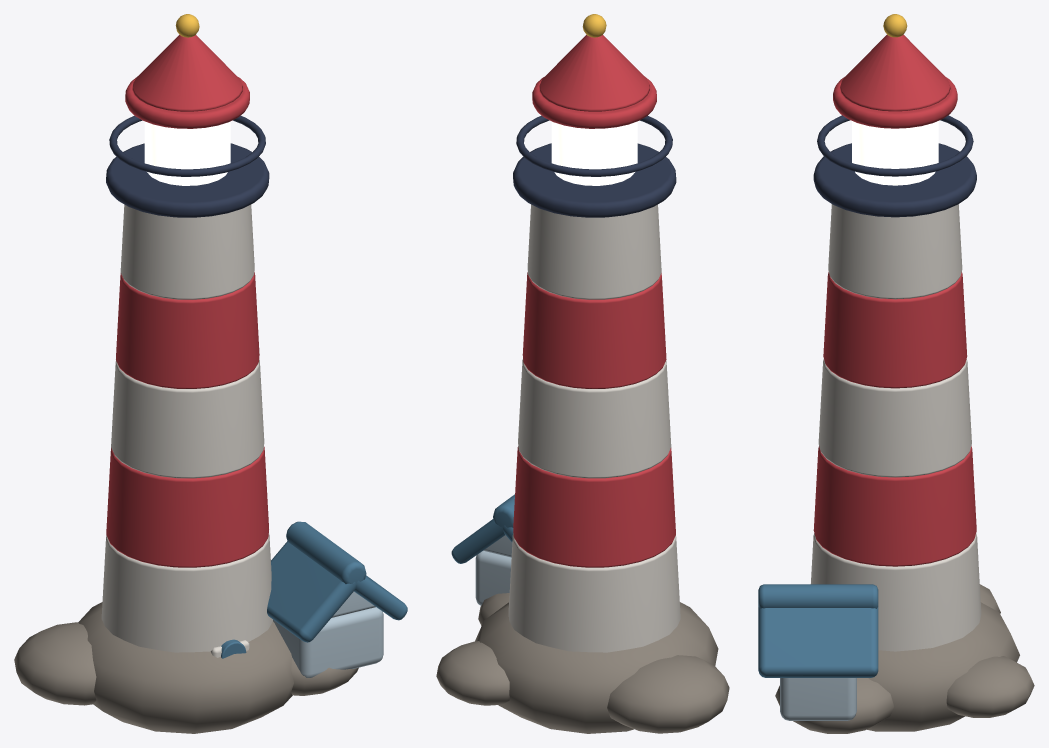
The picture shows the model from 3 angles, left to right: view 1: azimuth 30°, elevation 25°; view 2: azimuth 150°, elevation 25°; view 3: azimuth 270°, elevation 25°; orthographic projection.
Visible parts, largest first — view 1: Sphere; view 2: Sphere; view 3: Sphere.
Part boxes in pixels (x1,y1,x2,y2): Sphere: (14, 14, 407, 733); Sphere: (436, 14, 729, 733); Sphere: (758, 14, 1034, 733).
Bounding box in the file's own units: 0.7164 × 1.6 × 0.575.
